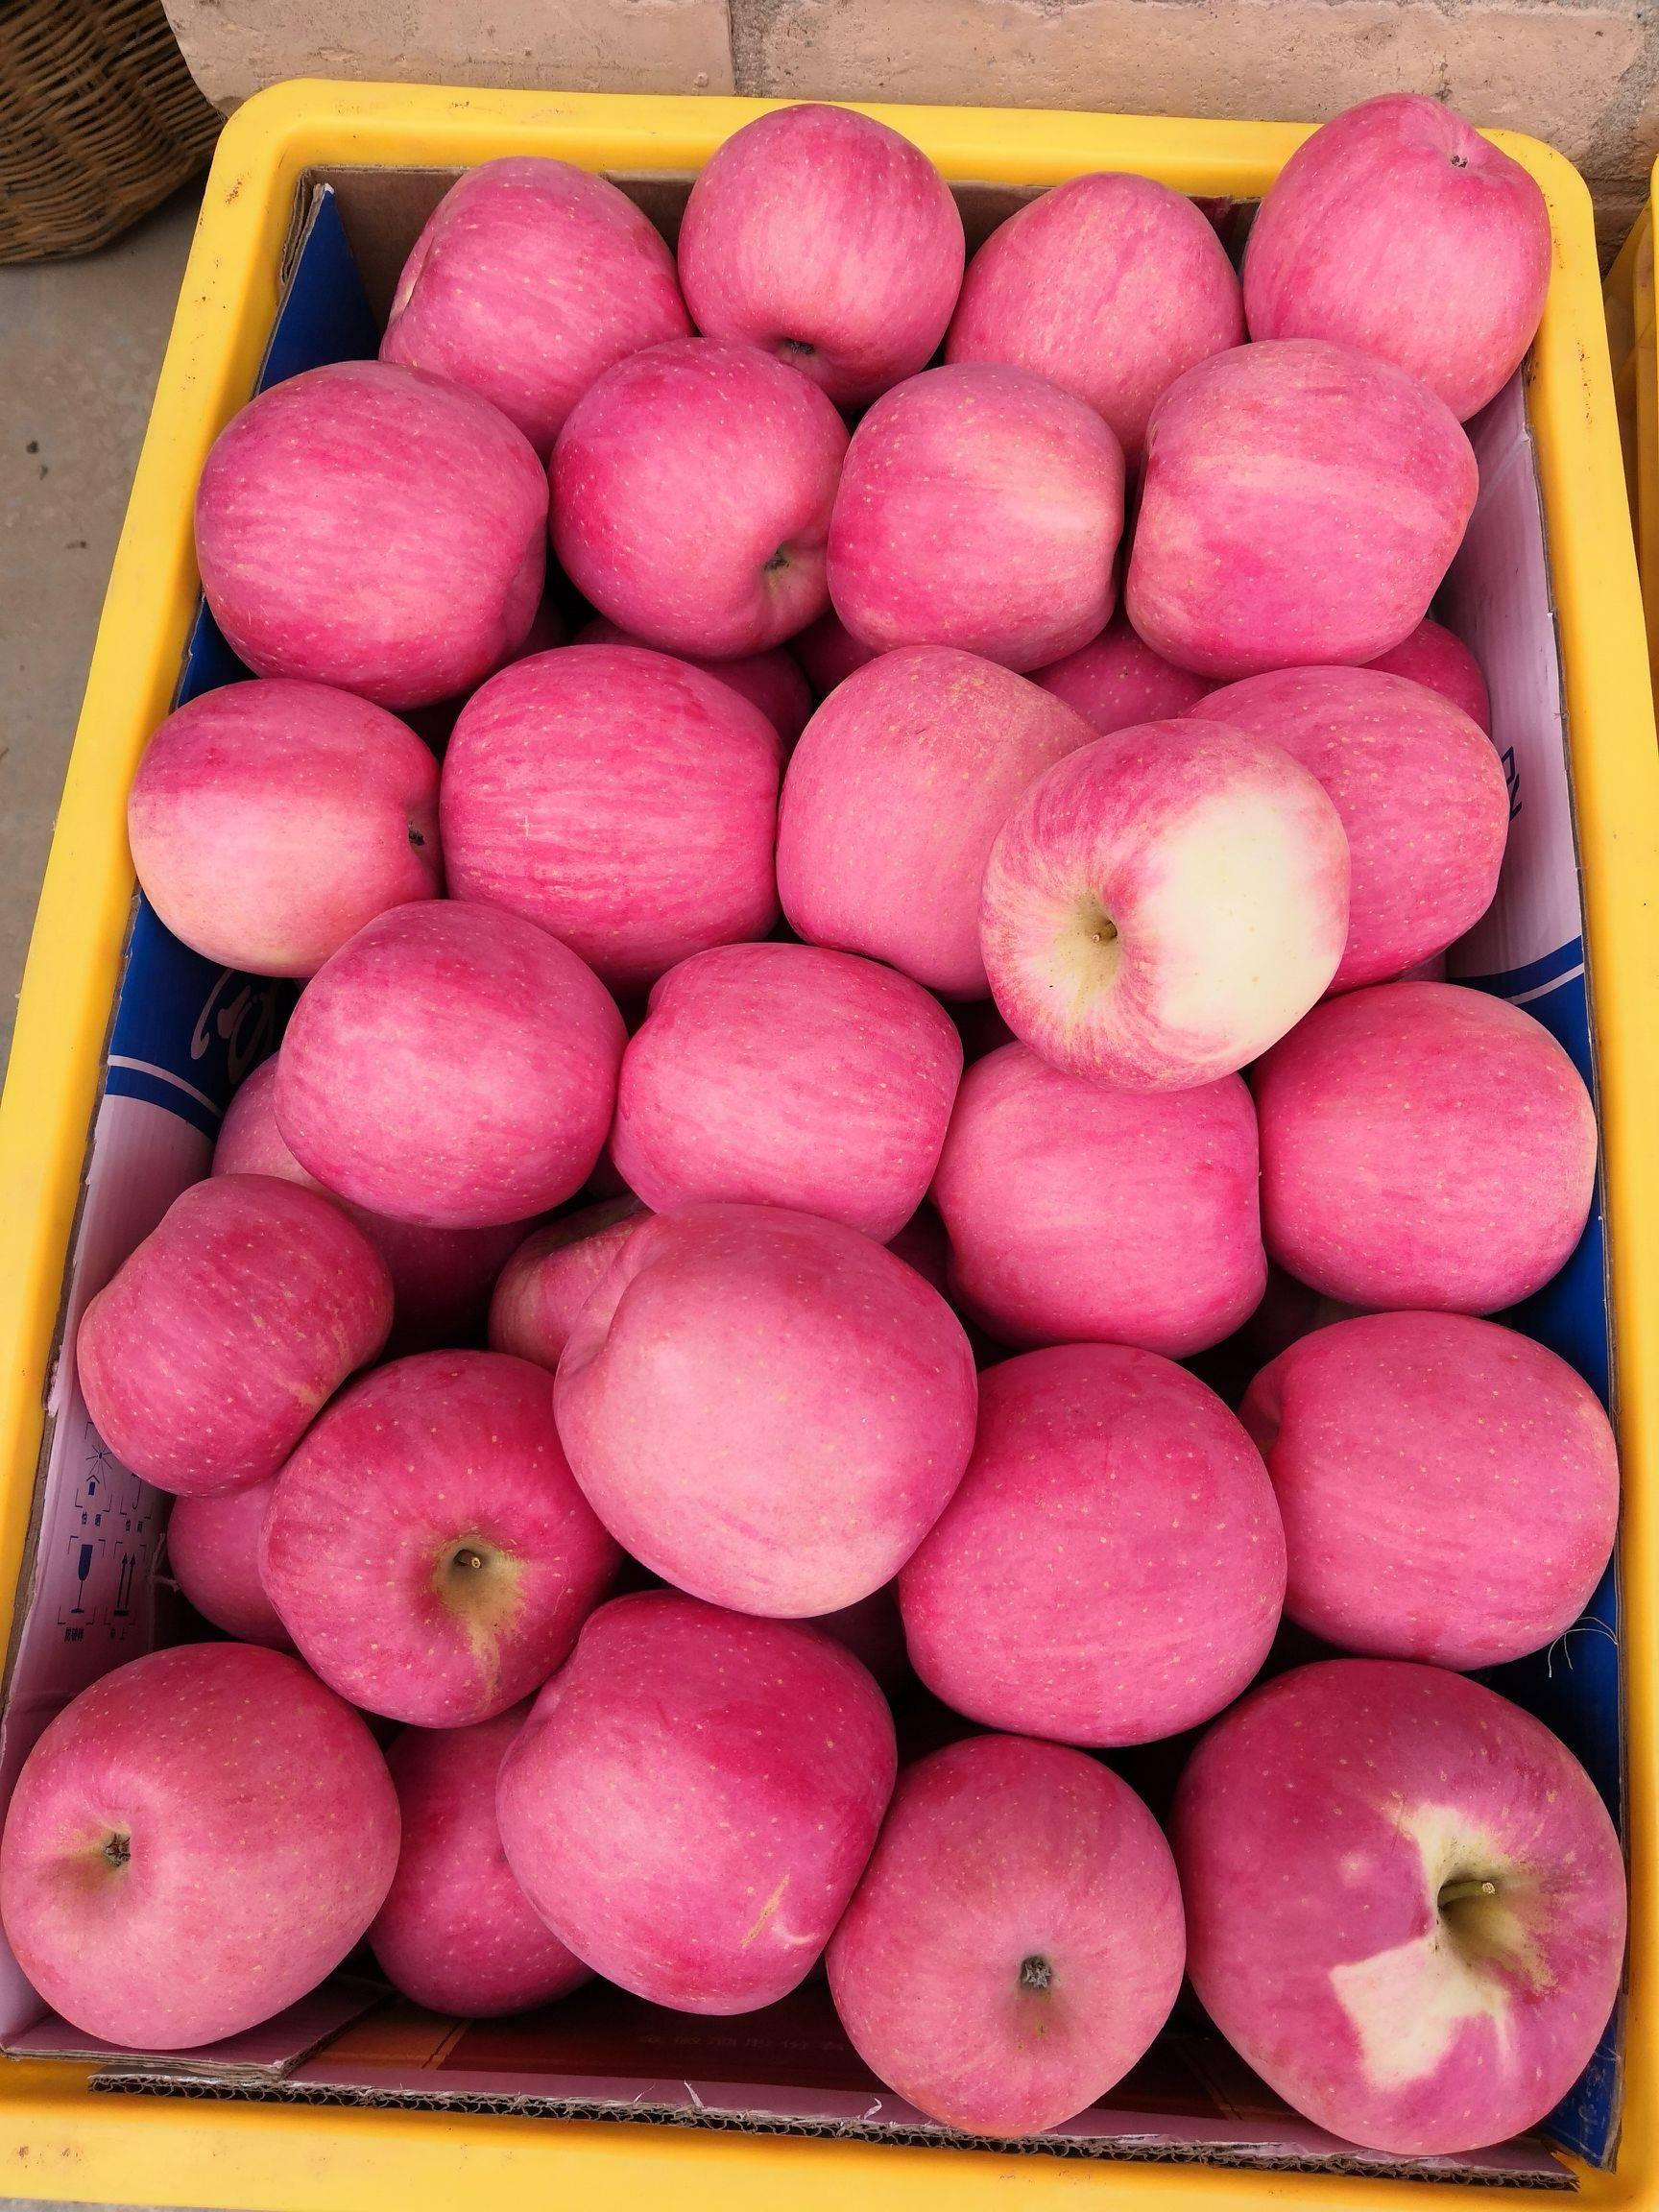apple: (1183, 1676, 1629, 2149), (552, 1202, 986, 1629), (509, 1587, 918, 2019), (2, 1648, 397, 2050), (899, 1343, 1288, 1745), (251, 1353, 626, 1740), (823, 1731, 1187, 2128), (986, 707, 1363, 1078), (1248, 1313, 1612, 1663), (1251, 977, 1601, 1306), (1129, 348, 1480, 678), (200, 350, 538, 686), (281, 899, 647, 1205), (603, 939, 967, 1245), (1230, 85, 1546, 427), (432, 643, 777, 942), (101, 683, 441, 970), (828, 357, 1119, 671), (558, 343, 847, 658), (680, 108, 969, 392), (375, 153, 683, 406), (951, 179, 1244, 416)
